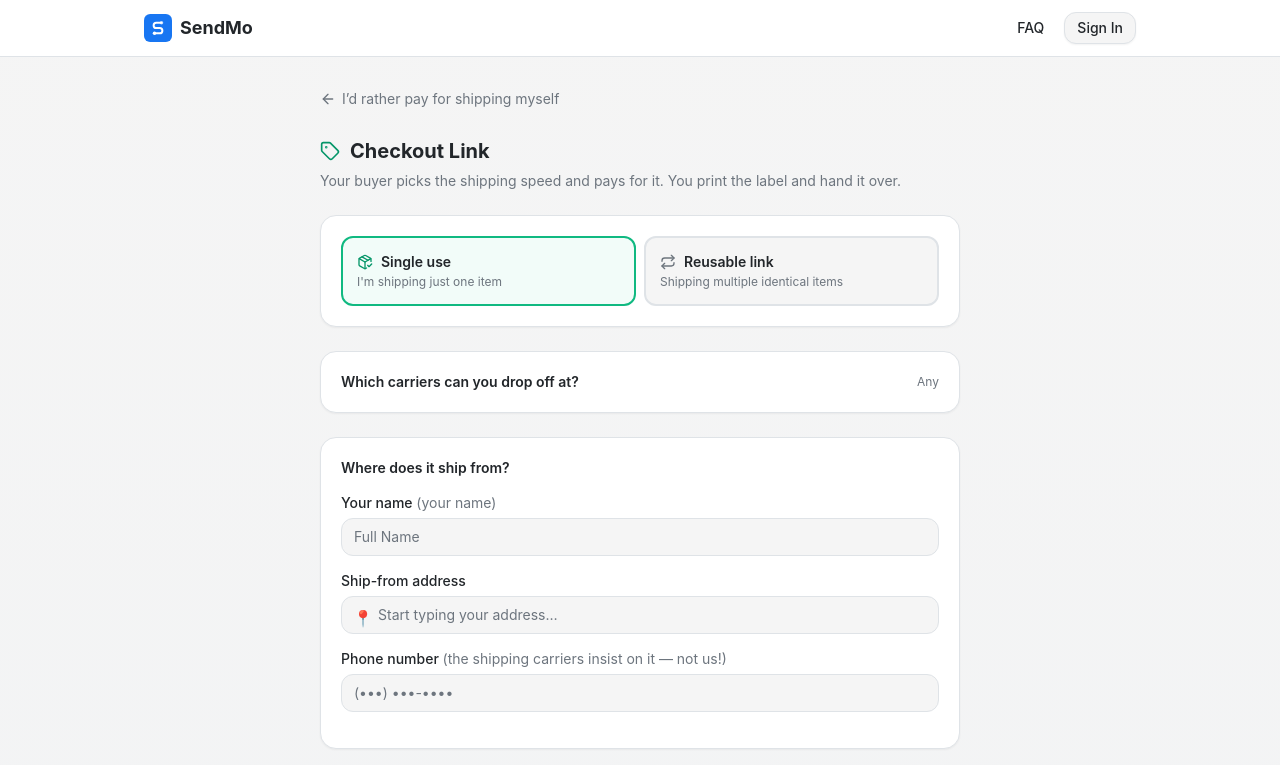
Test: SellerBuilder — carrier constraint › lets the seller pick USPS or UPS together — the thing that was actually asked for
Step 1. Click the button "Which carriers can you drop off at? Any" → click(460, 382), box [341, 372, 939, 392]
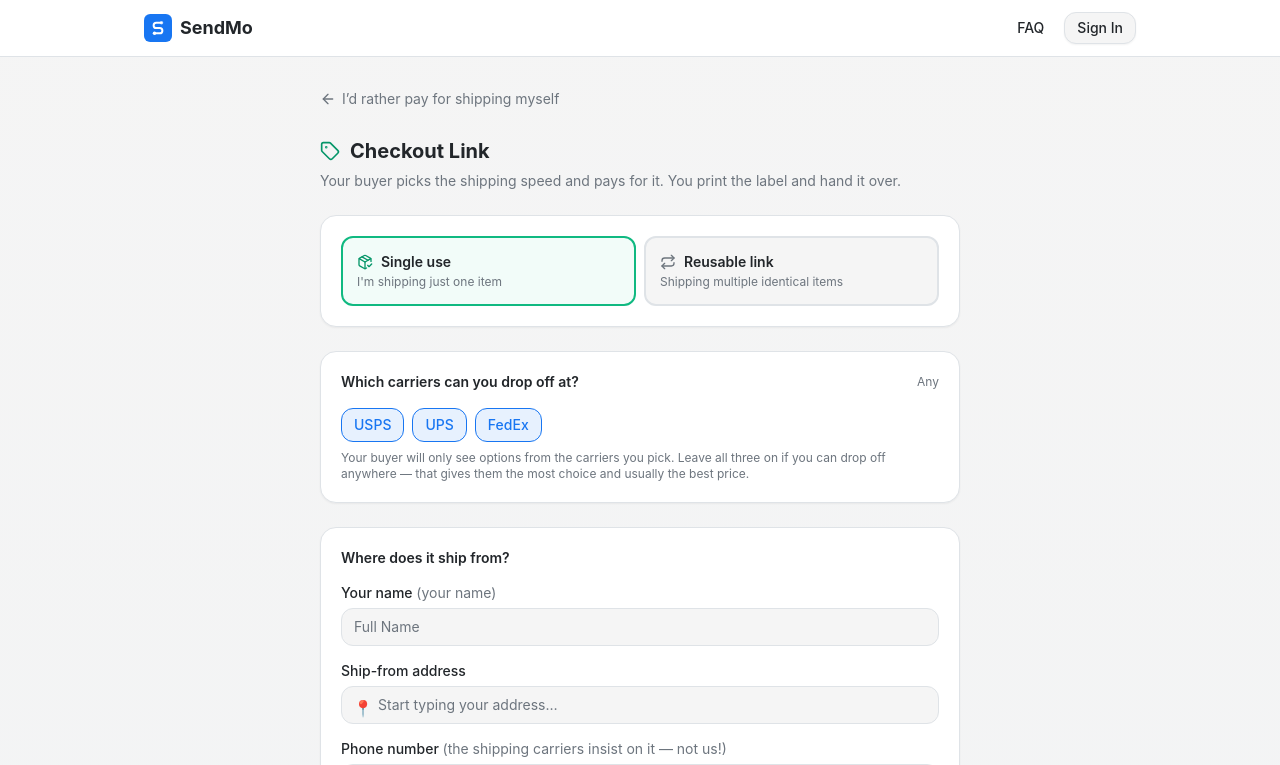
Step 2. Click the button "FedEx" → click(508, 425), box [475, 408, 542, 442]
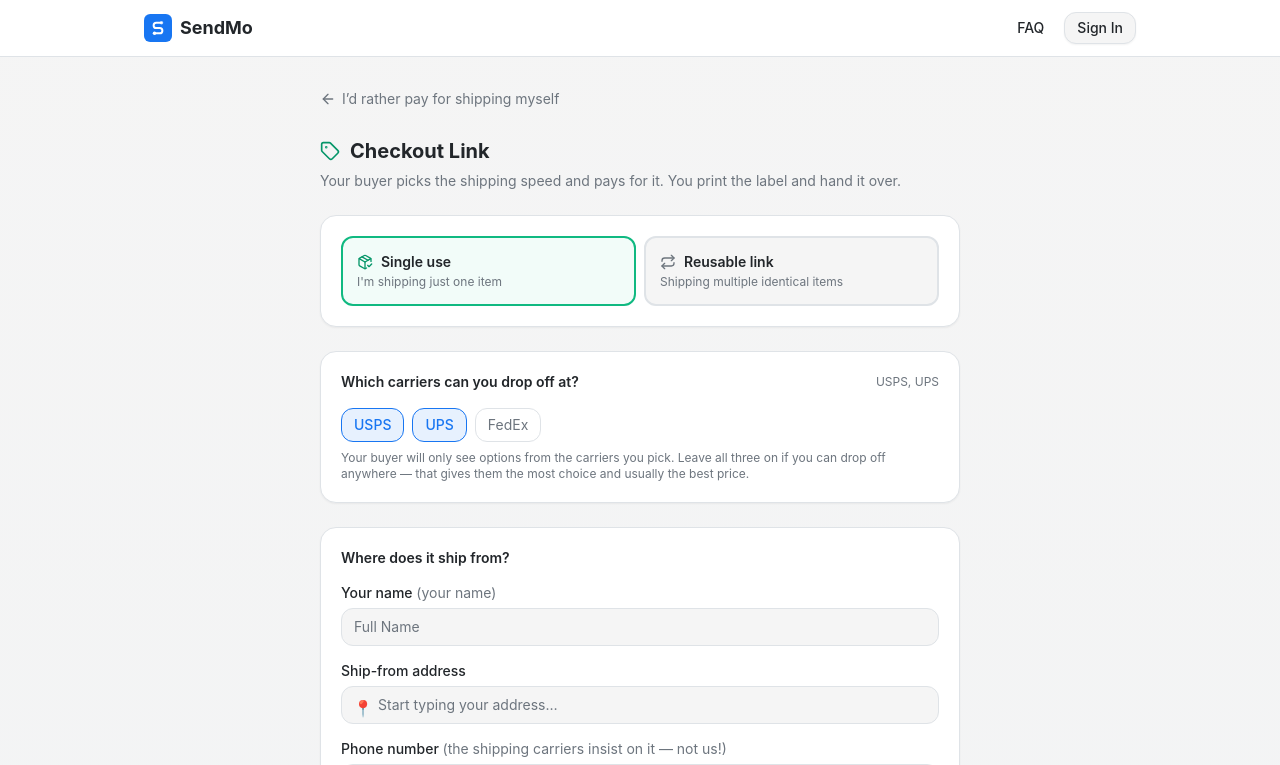
Expected: the text "USPS, UPS" is shown, [876, 374, 939, 390]
